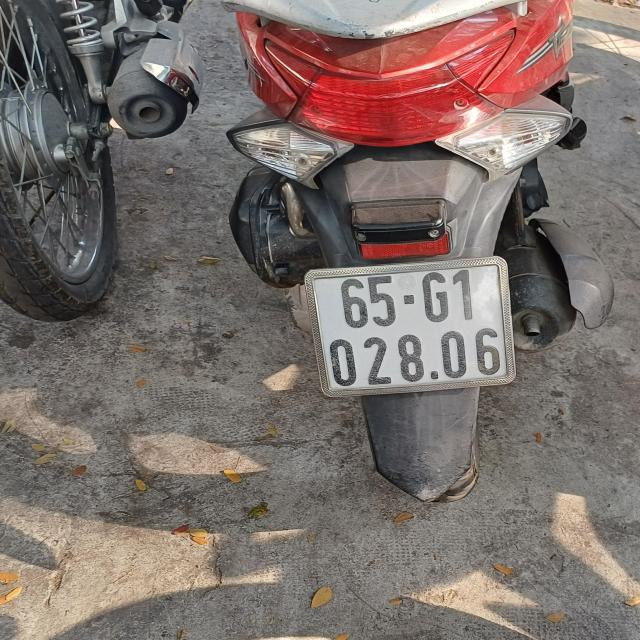0: (330, 335, 357, 388), (440, 328, 467, 379)
1: (452, 270, 475, 324)
2: (364, 337, 393, 385)
5: (366, 276, 397, 329)
6: (337, 273, 369, 329), (472, 324, 501, 373)
8: (398, 335, 426, 383)
G: (423, 272, 452, 325)
